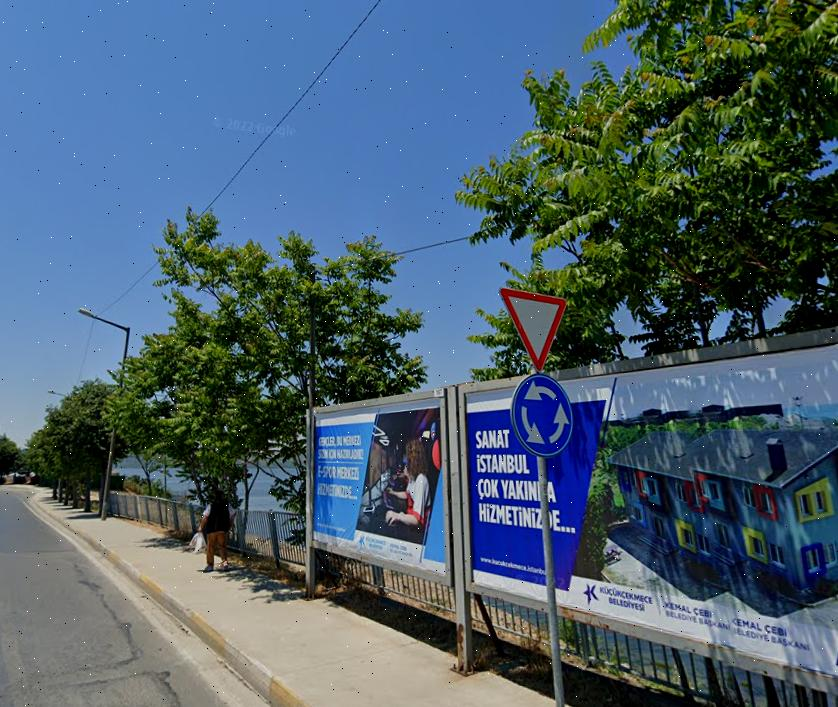crossroads: (508, 369, 574, 453)
